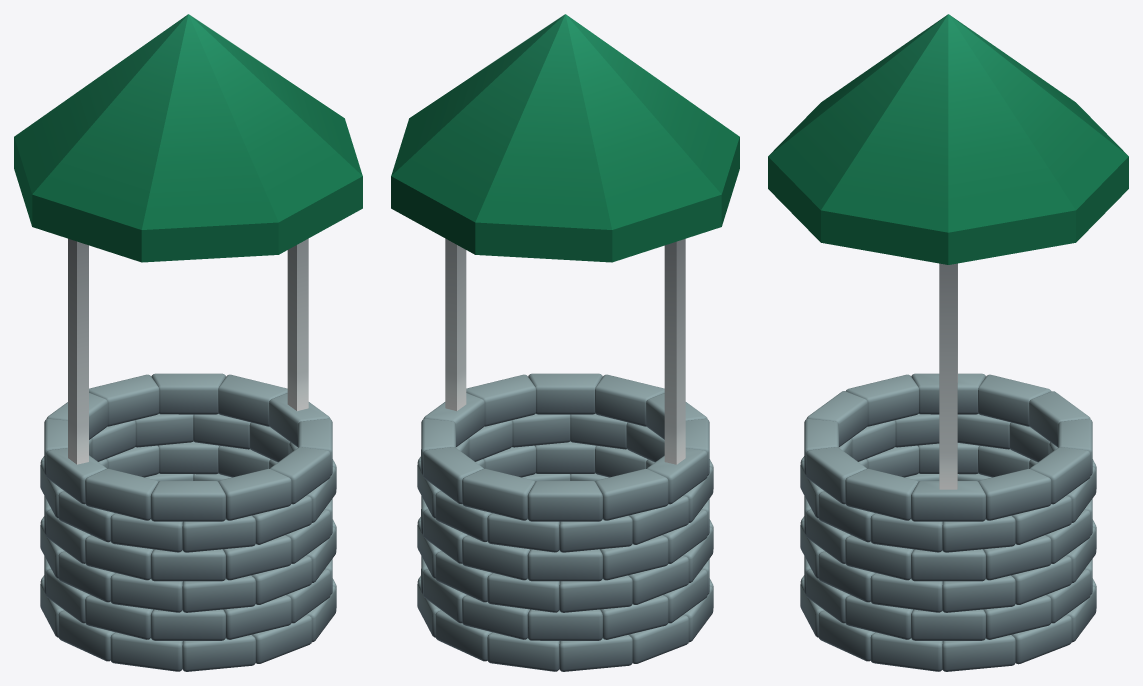
File: WaterWell.fbx
3 views of the same model, side by side, from view 1: azimuth 30°, elevation 25°; view 2: azimuth 150°, elevation 25°; view 3: azimuth 270°, elevation 25° (orthographic).
Parts seen in each view (by area): view 1: WaterWell; view 2: WaterWell; view 3: WaterWell.
Part boxes in pixels (x1,y1,x2,y2): WaterWell: (14, 14, 362, 671); WaterWell: (391, 14, 739, 671); WaterWell: (768, 14, 1128, 671).
Size of the model in its own units: 0.945 by 1.72 by 0.945.
